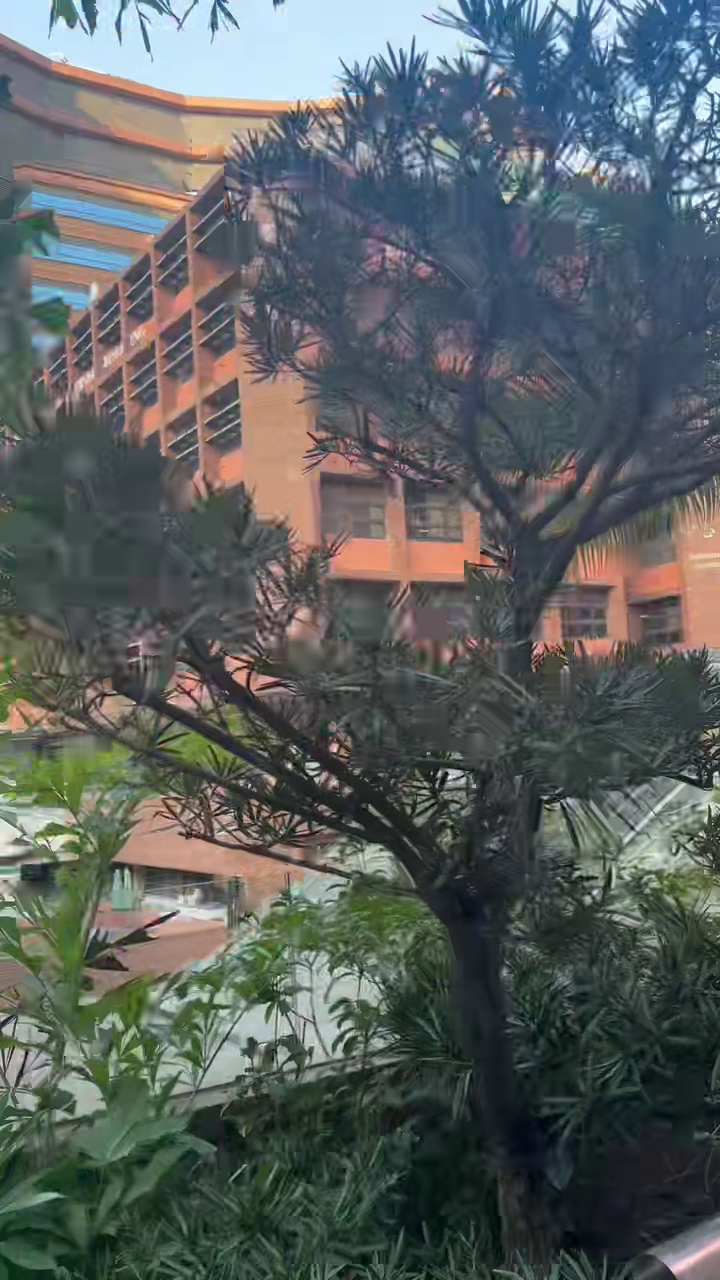Podocarpus macrophyllus: (8, 0, 719, 1260)
